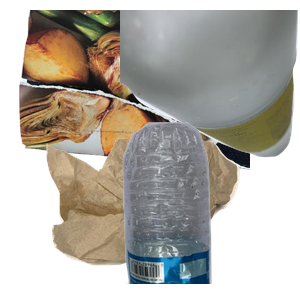glass: (120, 10, 300, 160)
paper: (16, 10, 256, 172)
plastic: (111, 120, 300, 300)
trash: (44, 136, 277, 300)
